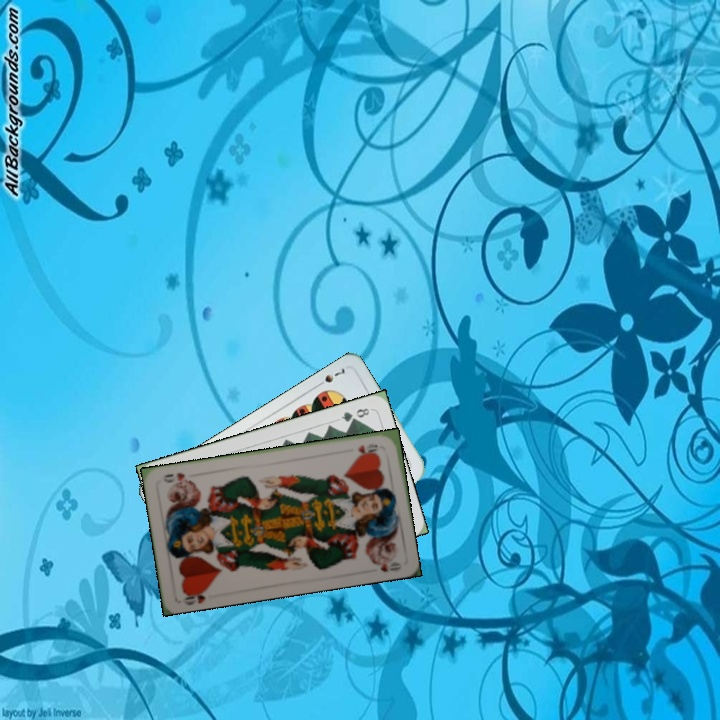G8: (337, 404, 372, 425)
HO: (178, 584, 211, 607), (354, 439, 383, 456)
S7: (312, 364, 348, 390)
